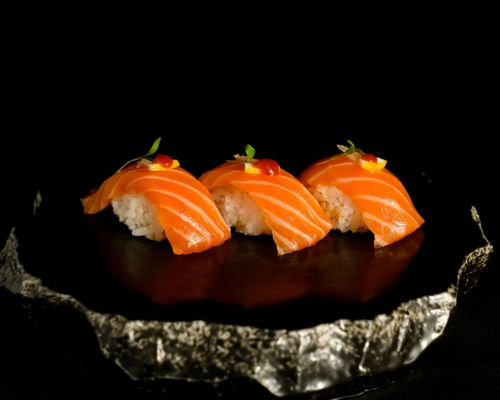taco: (299, 153, 425, 249)
